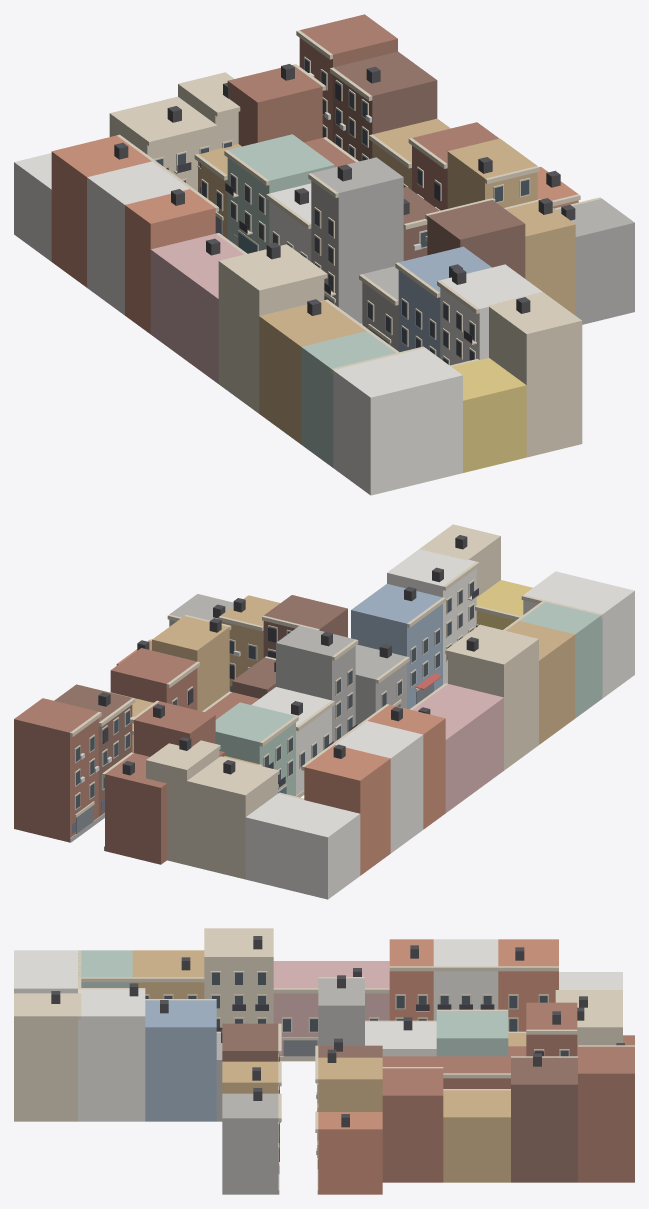
File: SM_Manzanas_Callejones_Galeana.fbx
The picture shows the model from 3 angles, top to bottom: view 1: azimuth 30°, elevation 25°; view 2: azimuth 150°, elevation 25°; view 3: azimuth 270°, elevation 25°; orthographic projection. The views are drawn at different scales.
Visible parts, largest first — view 1: SM_Manzanas_Callejones_Galeana; view 2: SM_Manzanas_Callejones_Galeana; view 3: SM_Manzanas_Callejones_Galeana.
Part boxes in pixels (left/top/right/bottom): SM_Manzanas_Callejones_Galeana: left=14, top=14, right=634, bottom=495; SM_Manzanas_Callejones_Galeana: left=14, top=524, right=634, bottom=899; SM_Manzanas_Callejones_Galeana: left=14, top=928, right=634, bottom=1194.
Bounding box in the file's own units: 47.5 × 17.3 × 77.5.
